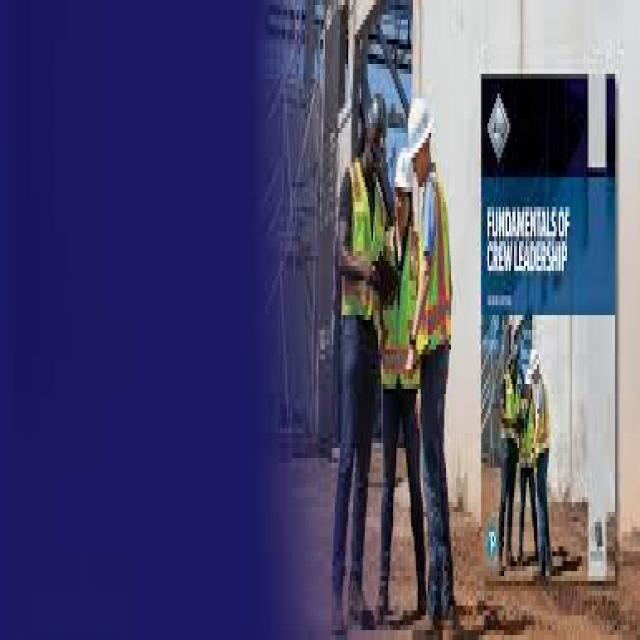Reflective-Jacket: (332, 153, 386, 344), (416, 168, 454, 370)
Safety-Helmet: (404, 89, 434, 162), (361, 89, 388, 142), (393, 138, 414, 202), (529, 345, 542, 379)
